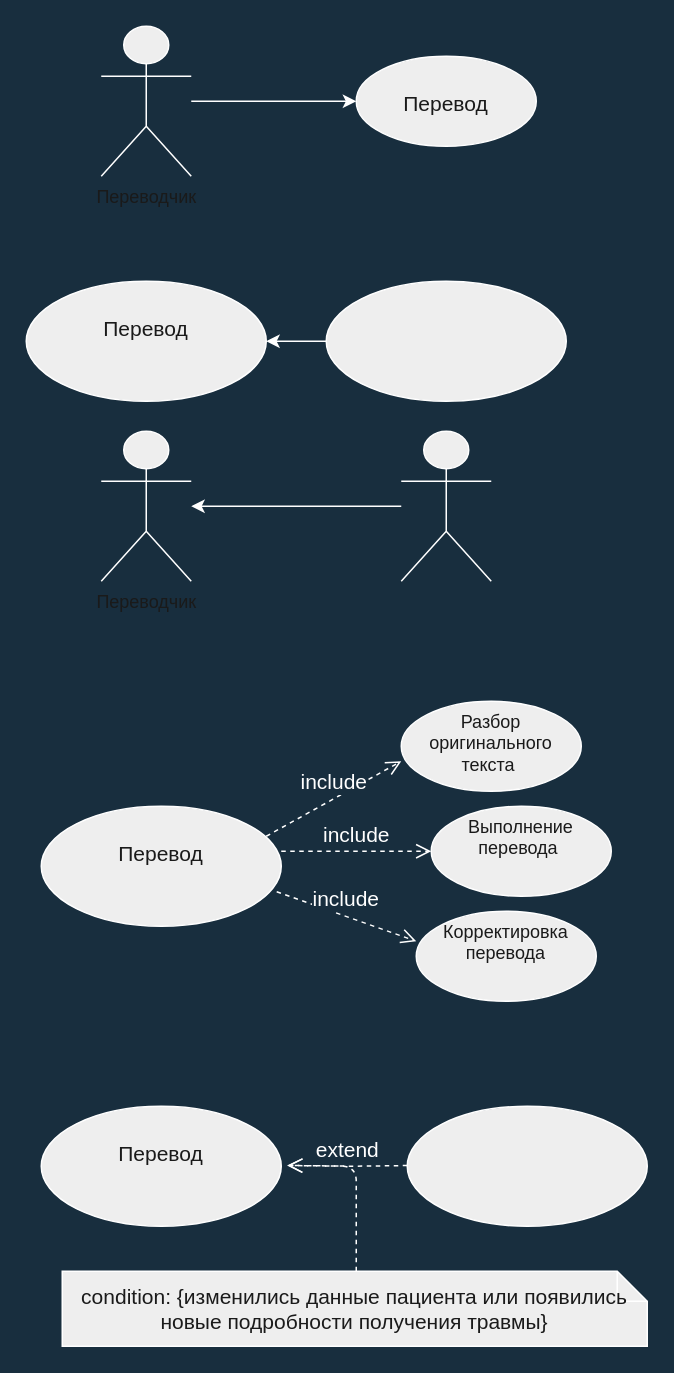
Image size: 674x1373. Some labels were removed from this diagram. The box of each missing label's shape, as (x1, y1, x2, y2) in pixels:
Админ Переводчик: (400, 430, 491, 581)
Корректировка оригинального текста: (406, 1105, 647, 1226)
Перевод- Администрирование: (325, 280, 566, 401)
